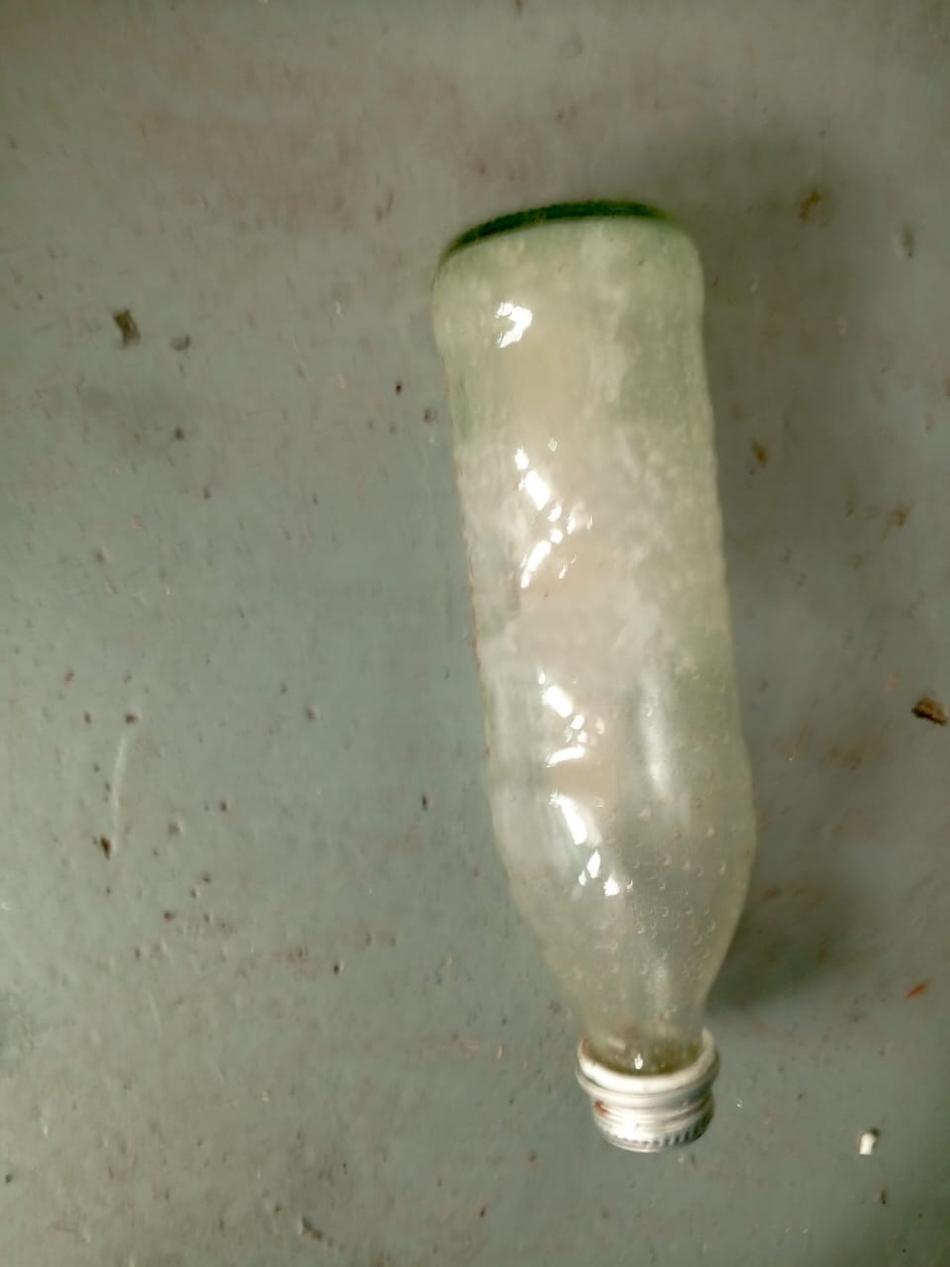Metal: (579, 1074, 717, 1156)
Vidrio: (426, 203, 758, 1071)
